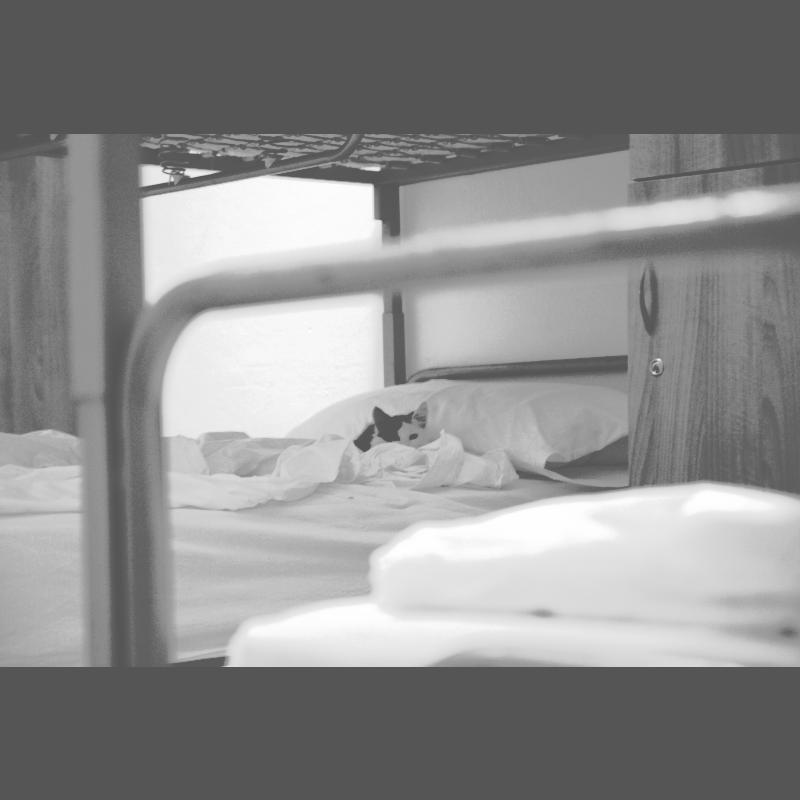pillow: (288, 374, 643, 480)
